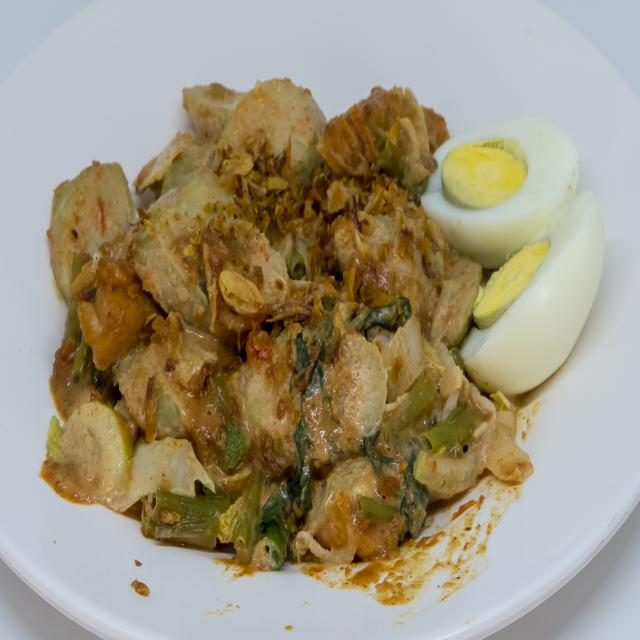Gado-Gado: (41, 50, 618, 581)
